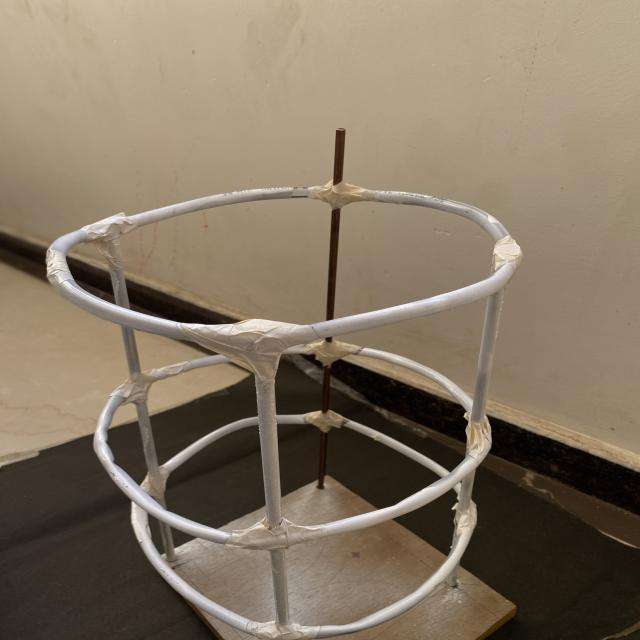silo: (38, 143, 528, 640)
